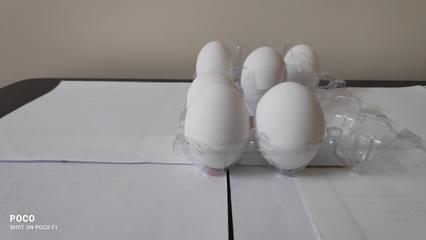eggs: (261, 85, 320, 176), (189, 79, 249, 165), (201, 42, 313, 83)
